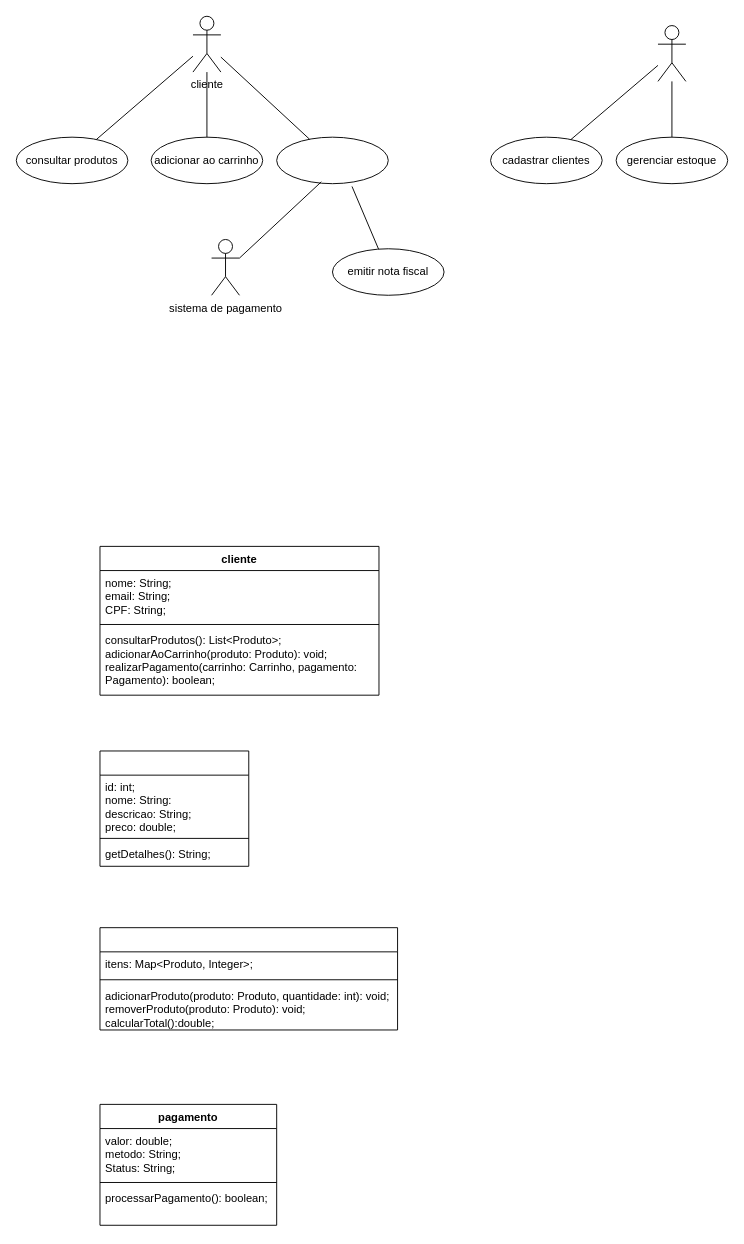
The diagram is 744 pixels wide and 1244 high, and some of its shapes have lost their labels. The box of each missing label's shape, as (x1, y1, x2, y2) in pixels:
carrinho: (99, 927, 398, 1030)
produto: (99, 750, 249, 866)
realizar pagamento: (276, 136, 388, 184)
vendedor: (657, 25, 686, 81)
